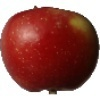apple: (1, 6, 100, 92)
